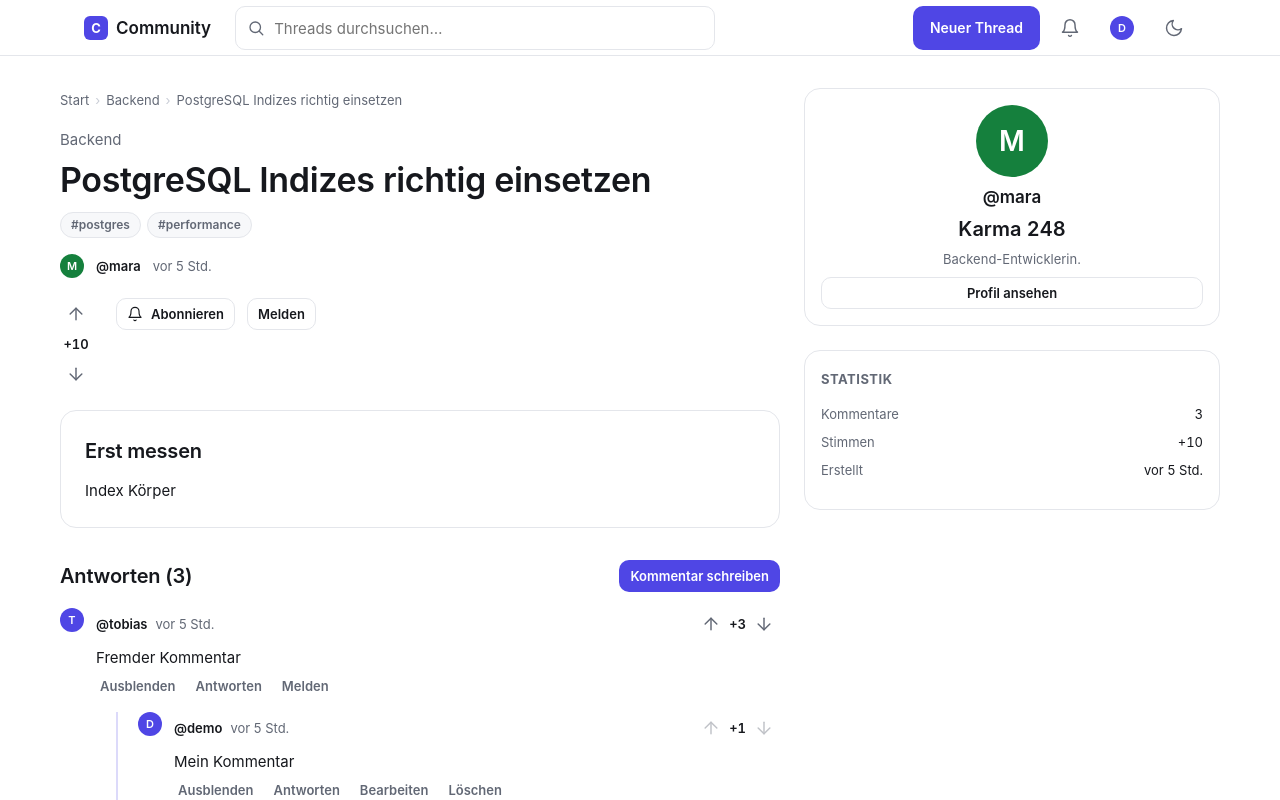
it: forum thread page › edits the user's own comment and marks it as edited
expect the text "Mein Kommentar" is shown: met, box [174,752,294,771]
Click the button "Bearbeiten" at (394, 790), box [356,780,432,799]
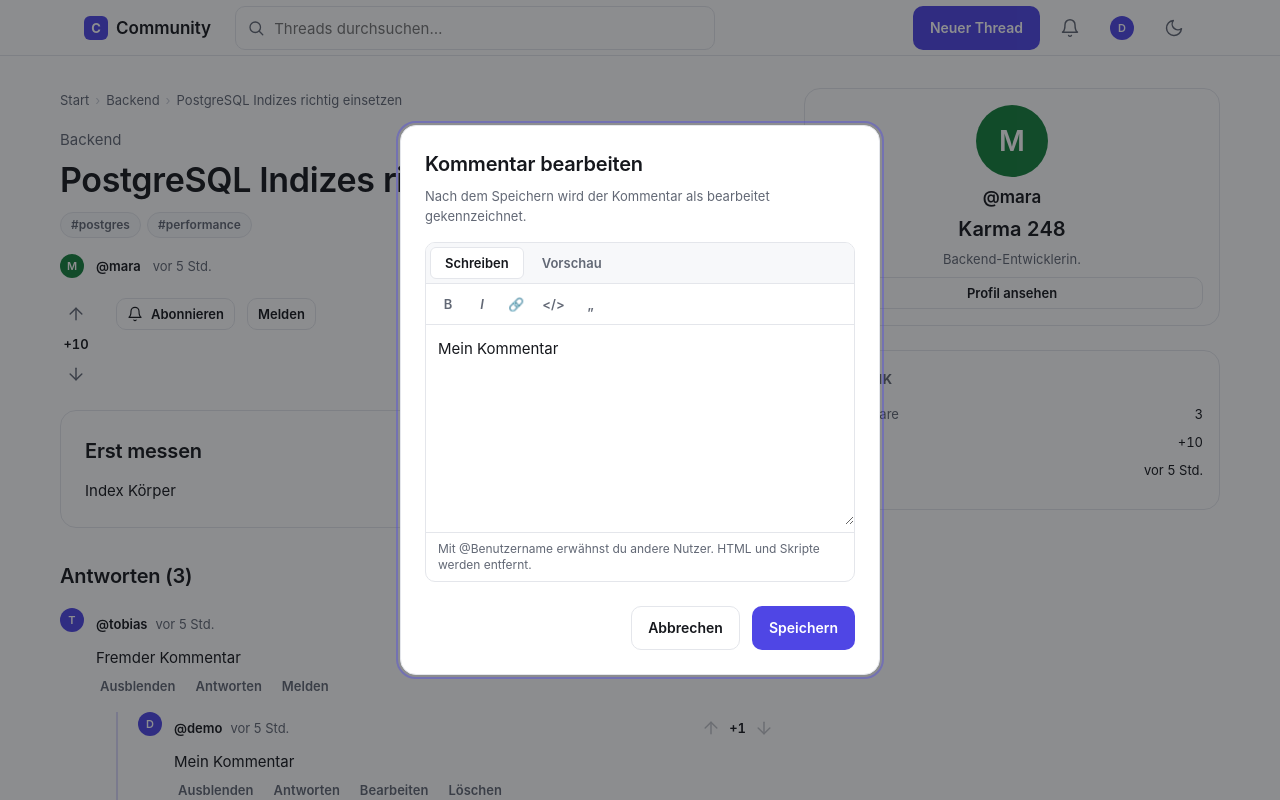
Replace the text in the text box named "Kommentar bearbeiten" with "Bearbeitet!" at (640, 425), box [426,325,854,525]
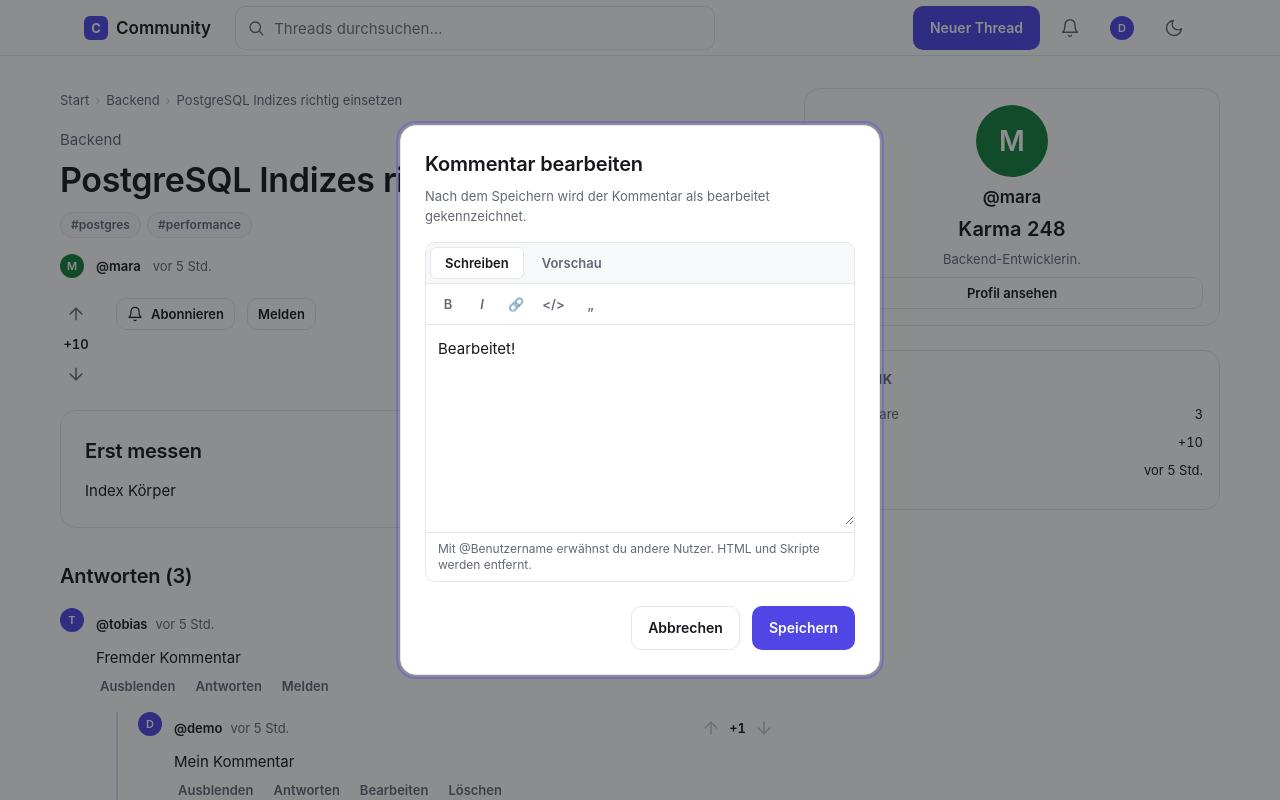
Click the button "Speichern" at (803, 628), box [752,606,855,650]
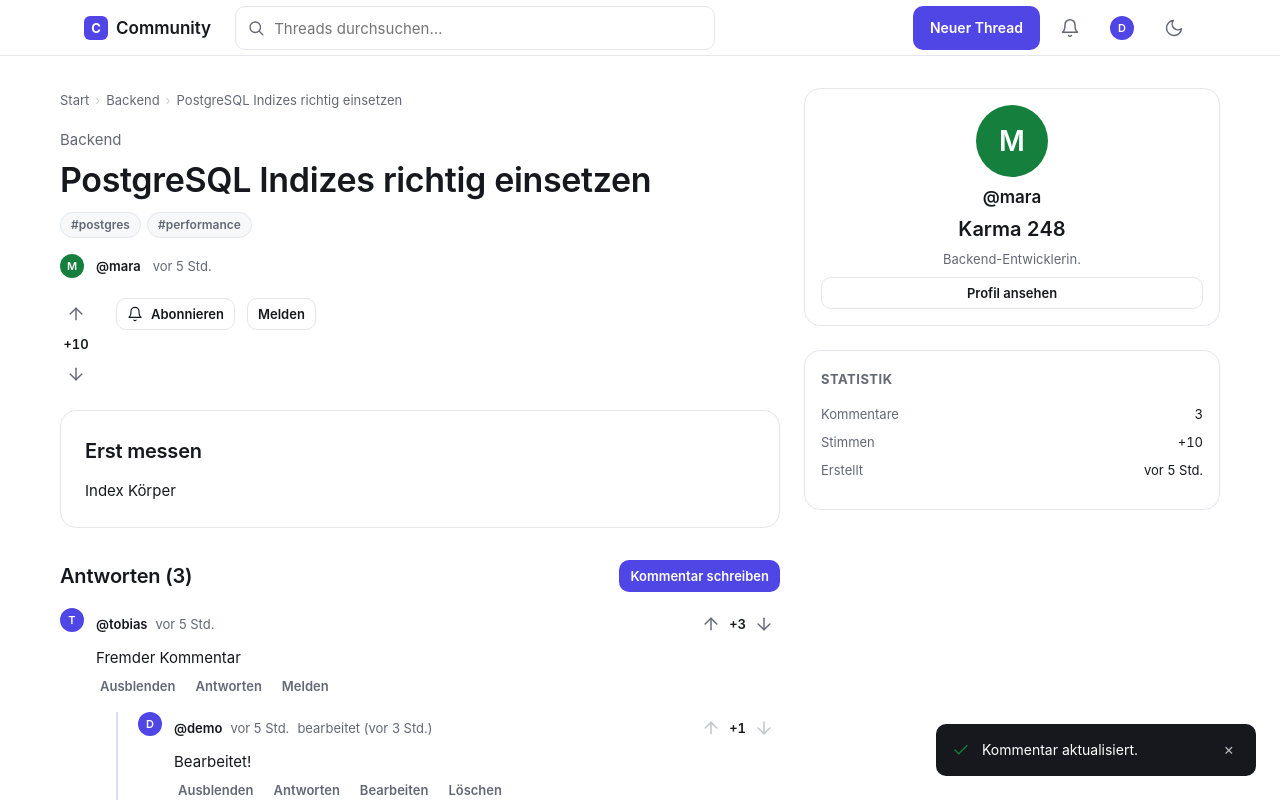
expect the text "Bearbeitet!" is shown: met, box [174,752,251,771]
expect the text "bearbeitet (vor 3 Std.)" is shown: met, box [297,716,432,740]
